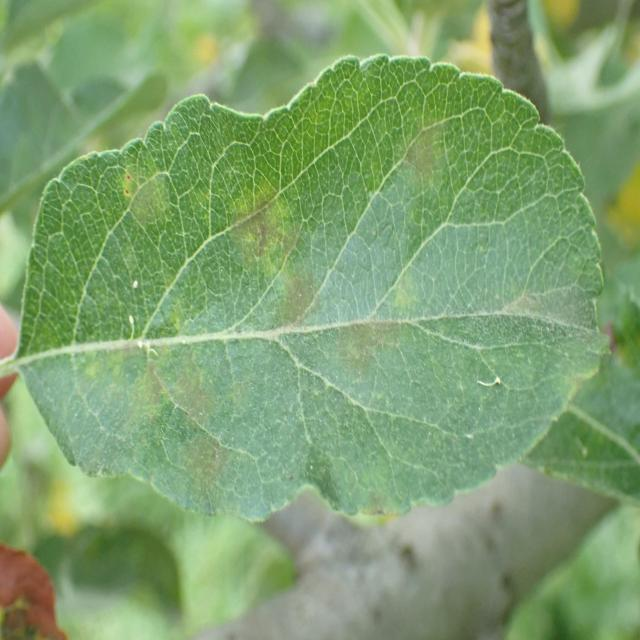scab: (42, 120, 606, 540)
